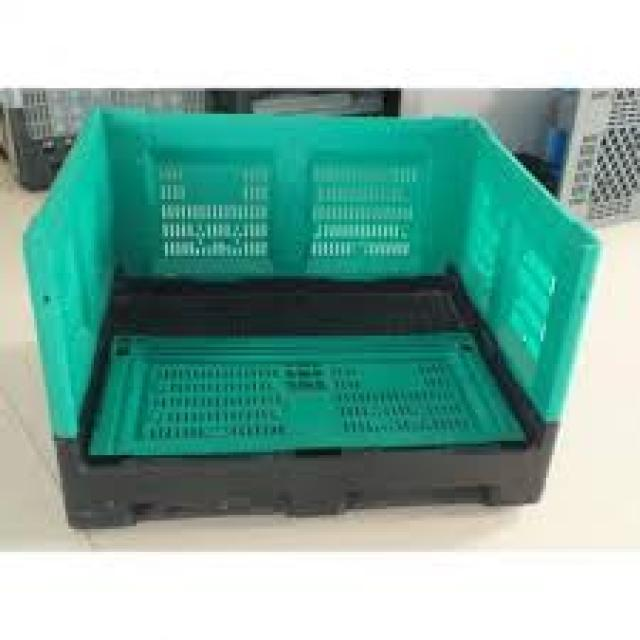basket: (21, 110, 605, 535)
